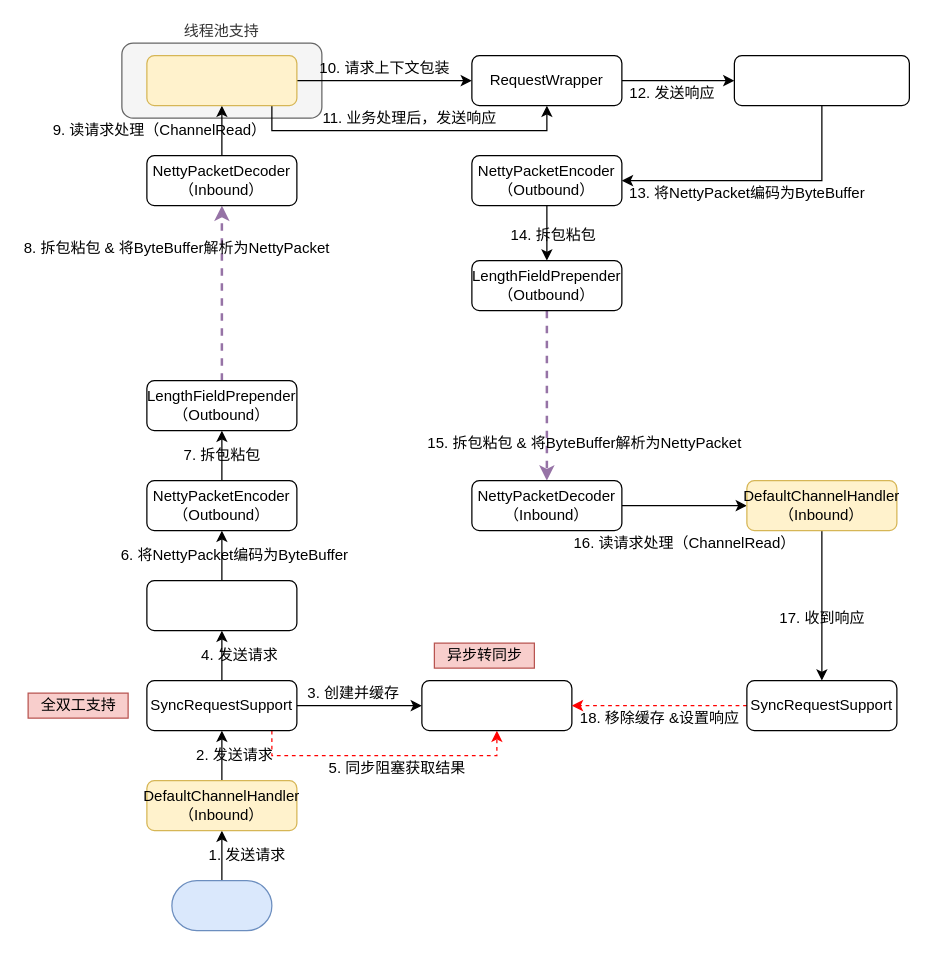
Image size: 931x953. Some labels were removed from this diagram. Here are the shapes that lost their labels. From the top down, the centre of each, then its label:
the point at 221,80: InboundHandler （Inbound）
the point at 821,80: ChannelHandlerContext
the point at 221,605: SocketChannel
the point at 496,705: RequestPromise
the point at 221,905: NetClient
